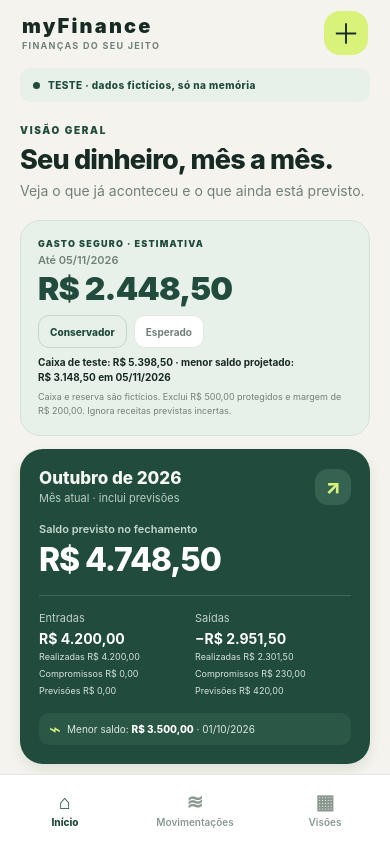
Test case: app movement journeys › opens the current month movement list by default and switches to next month
Click the tab with test id "tab-movements".
click(195, 809)  # box x1=156 y1=790 x2=234 y2=828
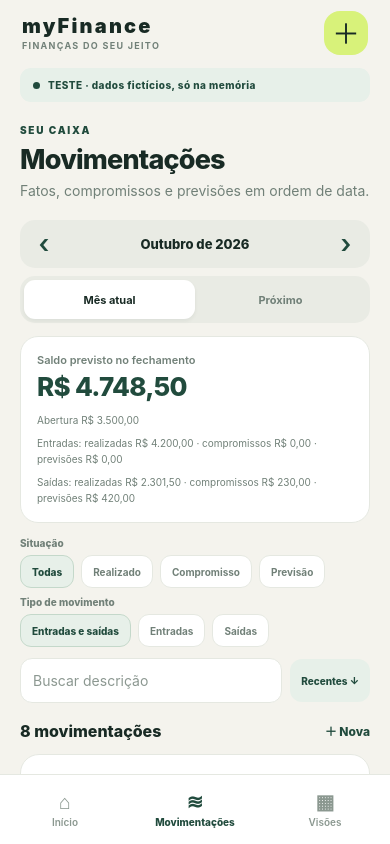
Expected: the text "R$ 4.748,50" is shown, x1=37 y1=371 x2=187 y2=402
Expected: the text with test id "movement-summary-inflow-2026-10" is shown, x1=37 y1=435 x2=353 y2=467
Click the button with test id "show-next-month-button".
click(280, 300)  # box x1=195 y1=280 x2=366 y2=319
(page scrolled)
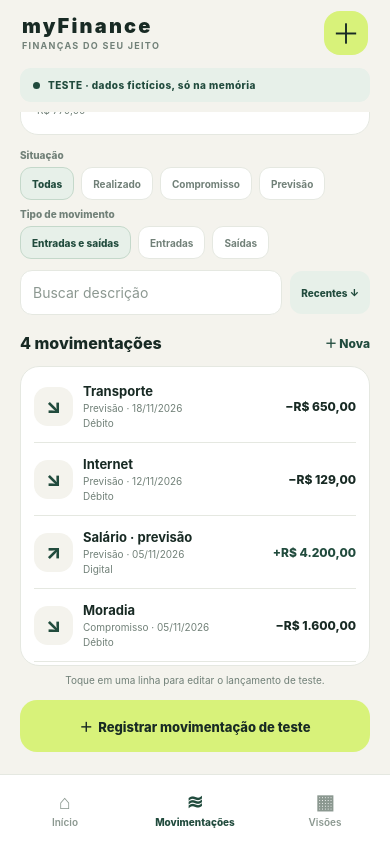
Expected: the button with test id "movement-row-demo-next-salary" is shown, x1=34 y1=516 x2=356 y2=589
